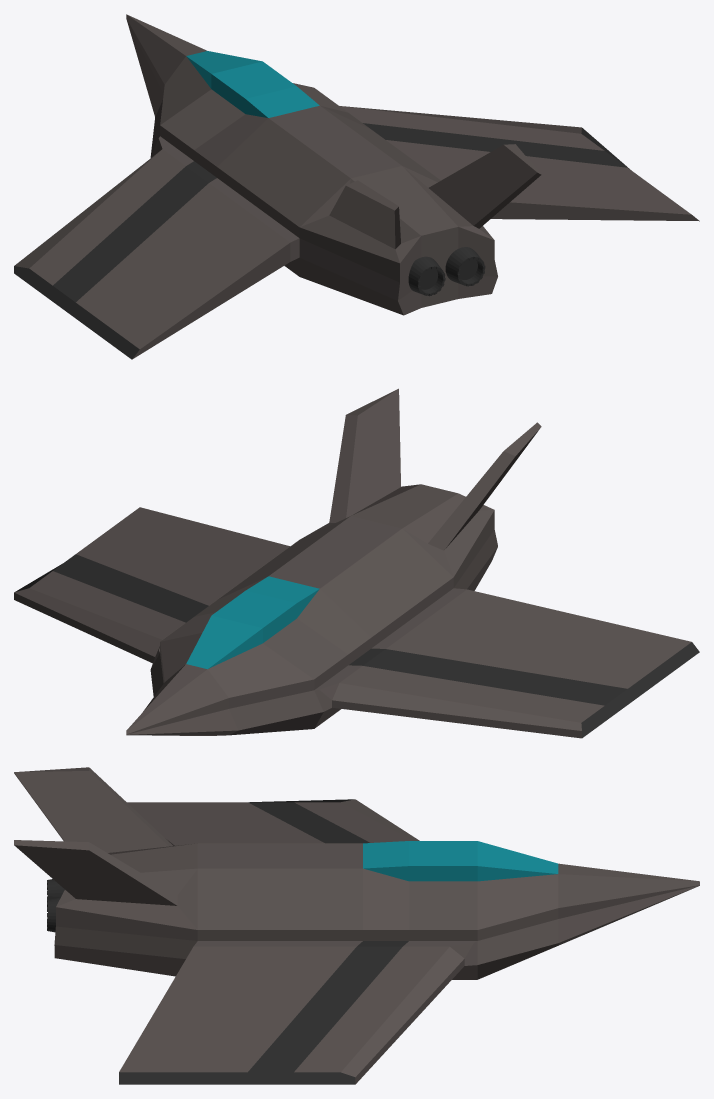
File: airplane.fbx
3 views of the same model, one above another, from view 1: azimuth 30°, elevation 25°; view 2: azimuth 150°, elevation 25°; view 3: azimuth 270°, elevation 25° (orthographic).
Visible parts, largest first — view 1: Plane; view 2: Plane; view 3: Plane.
Boxes of the visible parts, <box> form: Plane: <box>14,14,699,359</box>; Plane: <box>14,388,699,738</box>; Plane: <box>14,767,699,1084</box>.
Size of the model in its own units: 737 by 176 by 769.
